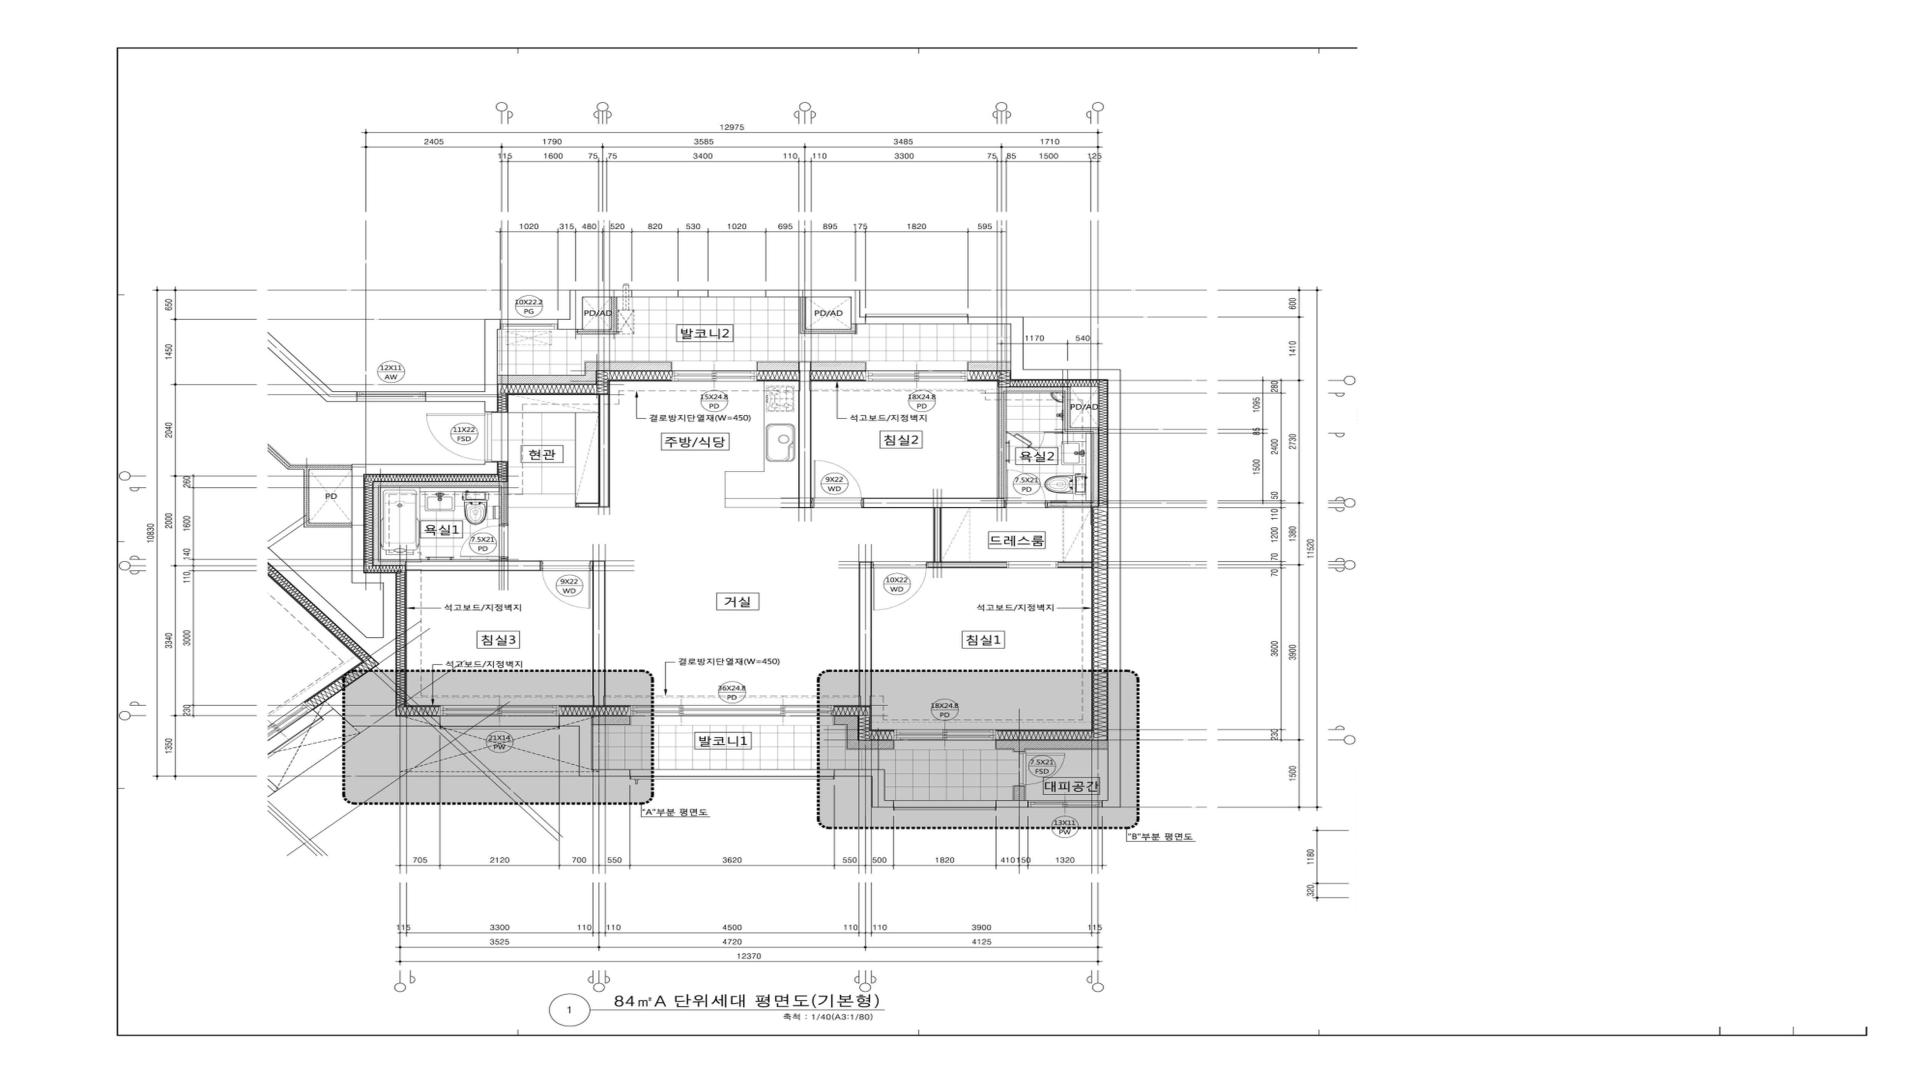door: (426, 413, 492, 462), (872, 562, 927, 611), (541, 560, 592, 609), (811, 460, 862, 509), (459, 526, 509, 560), (1018, 752, 1065, 786), (1005, 469, 1046, 508)
wall: (968, 316, 1122, 808), (862, 386, 1098, 568), (351, 462, 498, 727), (757, 361, 866, 508), (373, 481, 542, 571), (560, 716, 630, 777), (498, 361, 673, 385), (575, 394, 611, 508), (766, 290, 865, 324), (556, 290, 632, 330), (835, 769, 894, 807), (592, 560, 607, 707), (835, 715, 894, 750), (798, 298, 856, 334), (858, 562, 872, 705), (484, 319, 501, 413), (576, 298, 617, 335), (997, 740, 1108, 752), (967, 361, 1010, 372), (592, 716, 630, 725), (1058, 562, 1095, 568), (1011, 786, 1026, 800), (997, 800, 1029, 807), (678, 290, 708, 297)
window: (630, 705, 835, 725), (440, 705, 560, 729), (894, 729, 997, 750), (630, 769, 835, 779), (866, 361, 968, 382), (673, 361, 757, 381), (893, 800, 997, 811), (865, 314, 968, 324), (501, 319, 558, 330), (1029, 800, 1102, 808), (708, 290, 766, 298), (632, 290, 678, 298)
